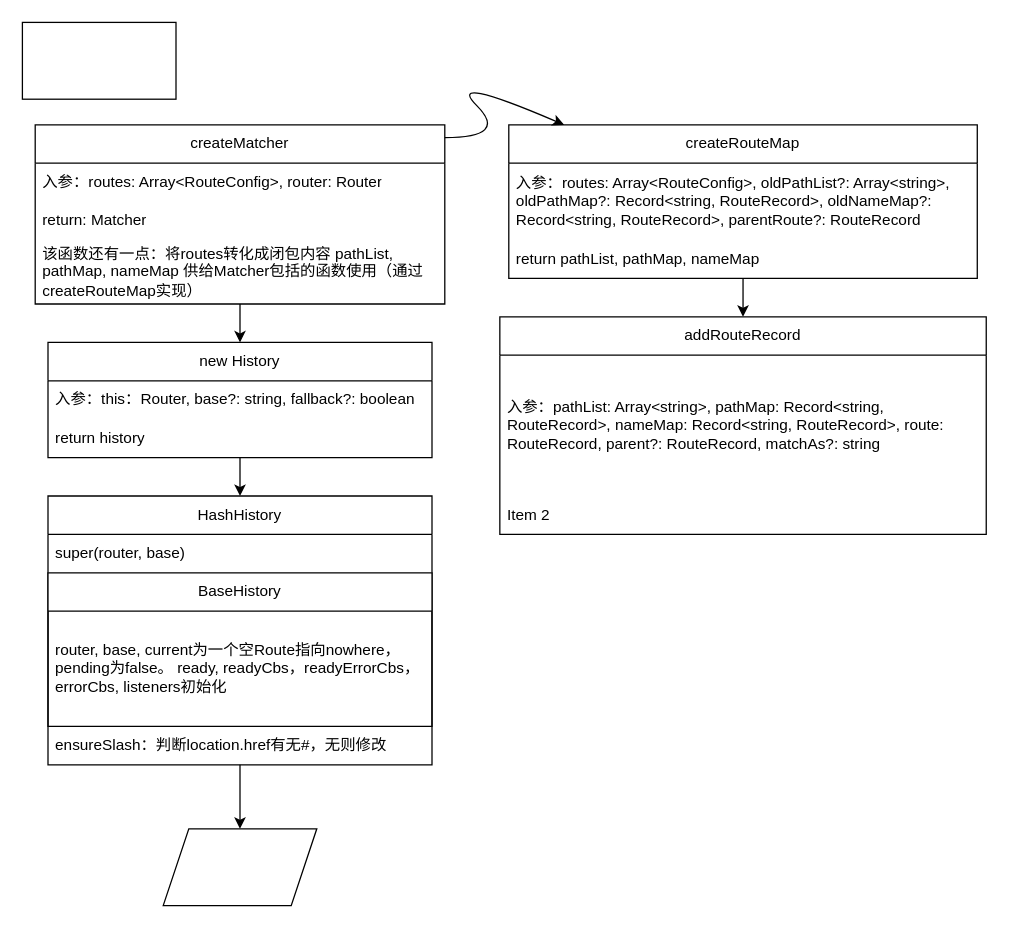
This 1009x928 diagram has some shape labels left out. Each missing label, with the centre of its shape:
new VueRouter流程: (98,60)
结束: (239,867)
